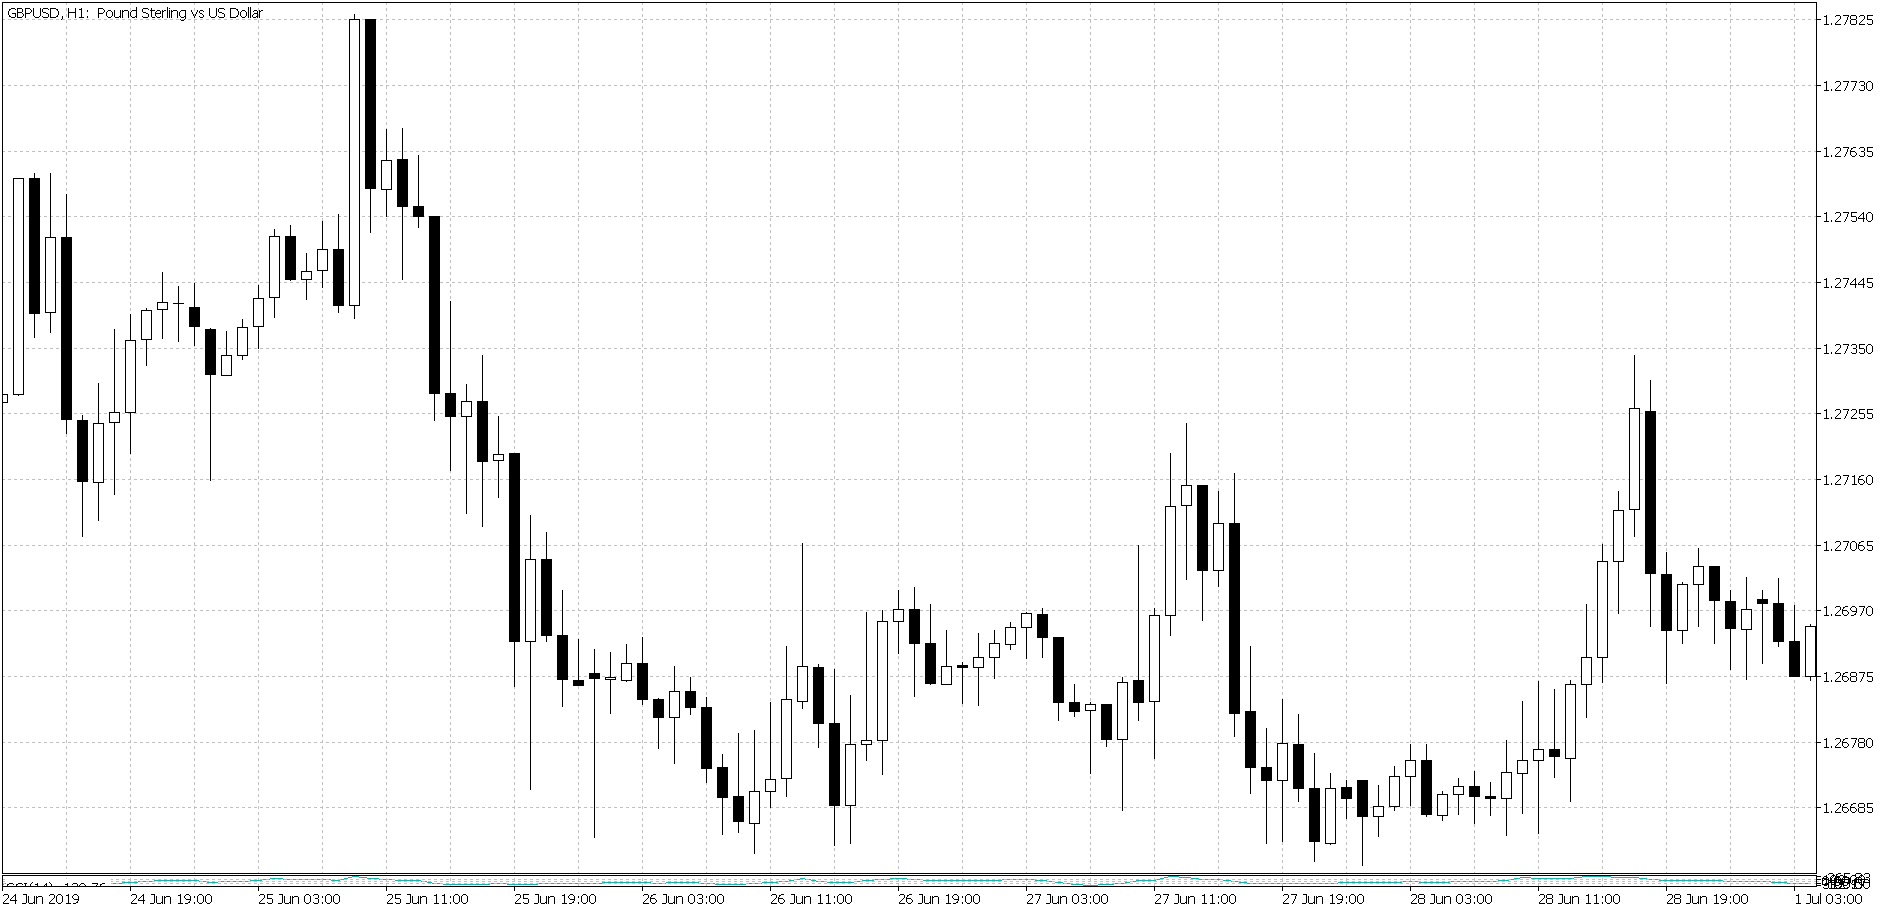bullishEngulfing: (732, 764, 761, 843)
hammer: (1085, 696, 1097, 778)
